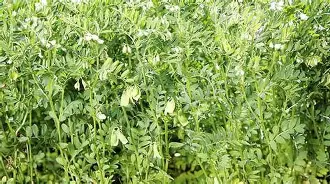crops: (0, 0, 324, 182), (16, 0, 145, 46), (253, 0, 327, 69), (186, 53, 246, 136), (243, 61, 309, 131), (76, 47, 135, 119), (5, 44, 60, 111), (193, 0, 261, 54), (262, 119, 321, 181), (203, 123, 262, 179), (127, 24, 183, 81), (49, 123, 103, 181), (121, 117, 162, 180), (0, 111, 39, 177), (169, 127, 205, 153), (56, 51, 88, 80), (170, 167, 206, 182)
